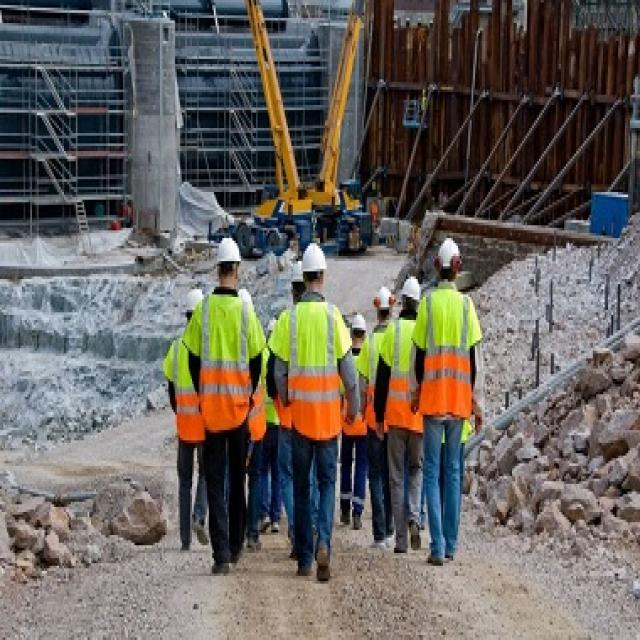Reflective-Jacket: (419, 287, 475, 422), (285, 300, 342, 432), (197, 290, 251, 428)
Safety-Helmet: (436, 236, 462, 272), (214, 233, 242, 266), (302, 241, 328, 274)
